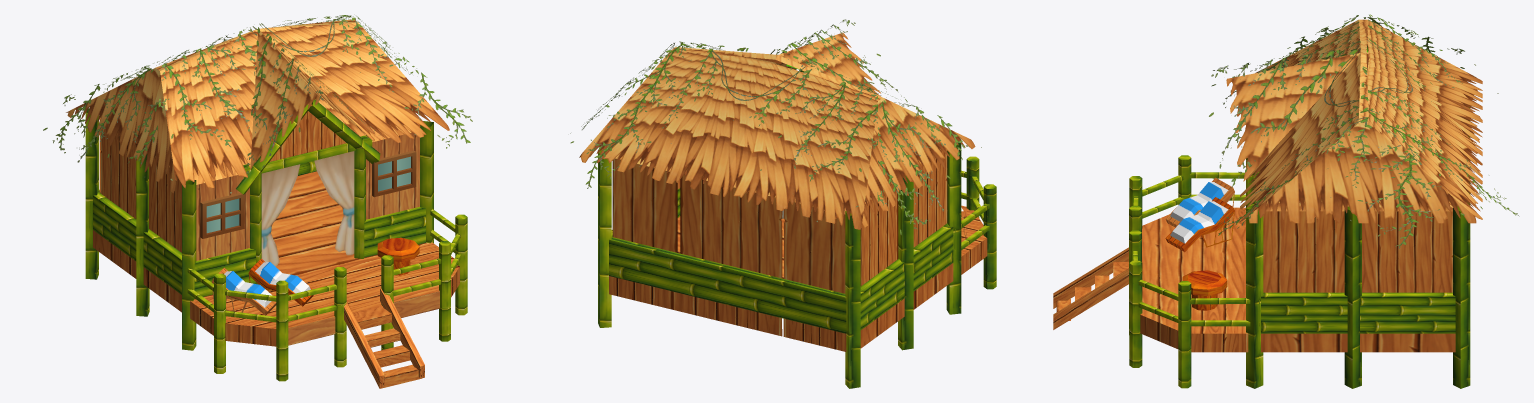
The model's file is boongalo_RRH.fbx.
3 views of the same model, side by side, from view 1: azimuth 30°, elevation 25°; view 2: azimuth 150°, elevation 25°; view 3: azimuth 270°, elevation 25° (orthographic). The views are drawn at different scales.
Parts seen in each view (by area): view 1: Cube.042, Cube.045, Cube.060, Plane.022, Cube.046, Cube.044, Cylinder.009, Cylinder.008, Cube.057, Cube.043, Cube.050, Cylinder.010 (+12 smaller); view 2: Cube.042, Cube.045, Cube.060, Cube.047, Cube.048, Cube.046, Cylinder.008, Cylinder.009; view 3: Cube.045, Cube.042, Cube.060, Cube.047, Cube.046, Cube.048, Cube.058, Cylinder.008, Plane.024, Cylinder.009, Plane.023, Cylinder.011 (+6 smaller).
Part boxes in pixels (x1,y1,x2,y2): Cube.042: (93,99,459,346); Cube.045: (66,19,449,193); Cube.060: (43,15,472,193); Plane.022: (261,151,354,266); Cube.046: (182,121,433,350); Cube.044: (200,150,416,238); Cylinder.009: (276,241,450,381); Cylinder.008: (214,214,467,373); Cube.057: (352,305,421,388); Cube.043: (250,148,365,284); Cube.050: (236,99,380,194); Cylinder.010: (334,255,393,367); Cube.042: (609,72,987,351); Cube.045: (579,32,975,229); Cube.060: (570,19,981,234); Cube.047: (598,149,860,388); Cube.048: (898,175,913,350); Cube.046: (946,138,961,314); Cylinder.008: (983,184,996,289); Cylinder.009: (966,156,979,217); Cube.045: (1226,19,1482,223); Cube.042: (1140,51,1455,352); Cube.060: (1209,14,1519,248); Cube.047: (1453,107,1470,388); Cube.046: (1246,158,1263,388); Cube.048: (1344,206,1361,388); Cube.058: (1053,247,1128,329); Cylinder.008: (1178,155,1191,388); Plane.024: (1165,197,1234,251); Cylinder.009: (1129,176,1142,367); Plane.023: (1165,177,1234,227); Cylinder.011: (1182,270,1227,310).
Bounding box in the file's own units: 611 × 445 × 681.
